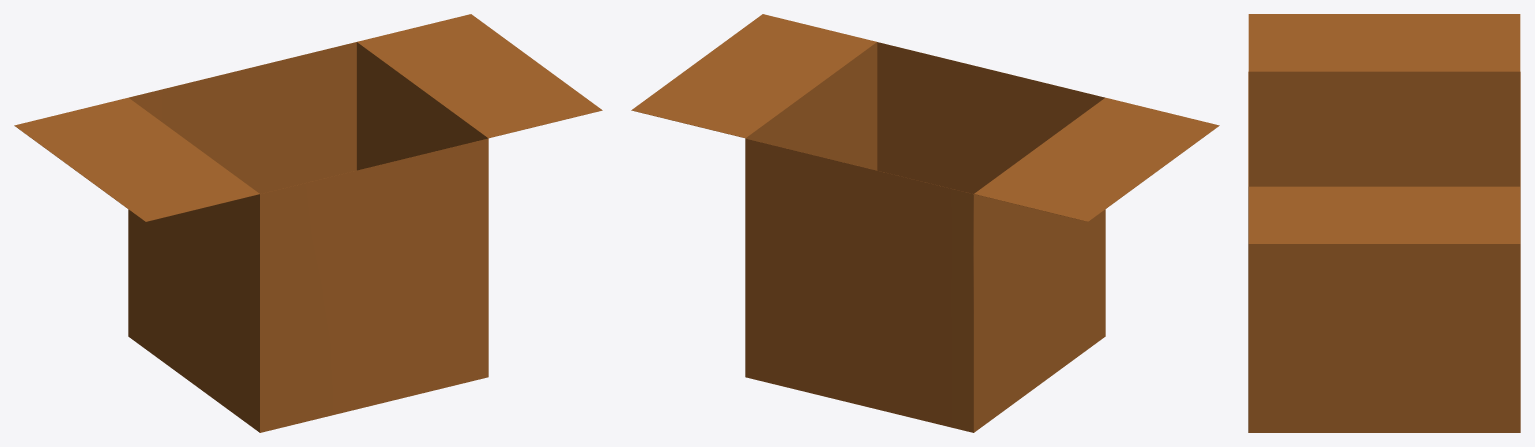
File: Pierrot_BoxTPose.fbx
The picture shows the model from 3 angles, left to right: view 1: azimuth 30°, elevation 25°; view 2: azimuth 150°, elevation 25°; view 3: azimuth 270°, elevation 25°; orthographic projection. The views are drawn at different scales.
Parts seen in each view (by area): view 1: Pierrot_Box_MS; view 2: Pierrot_Box_MS; view 3: Pierrot_Box_MS.
Boxes of the visible parts, x1,y1,x2,y2 form: Pierrot_Box_MS: (14, 14, 602, 432); Pierrot_Box_MS: (631, 14, 1219, 432); Pierrot_Box_MS: (1248, 14, 1520, 432).
Size of the model in its own units: 281 by 140 by 140.
